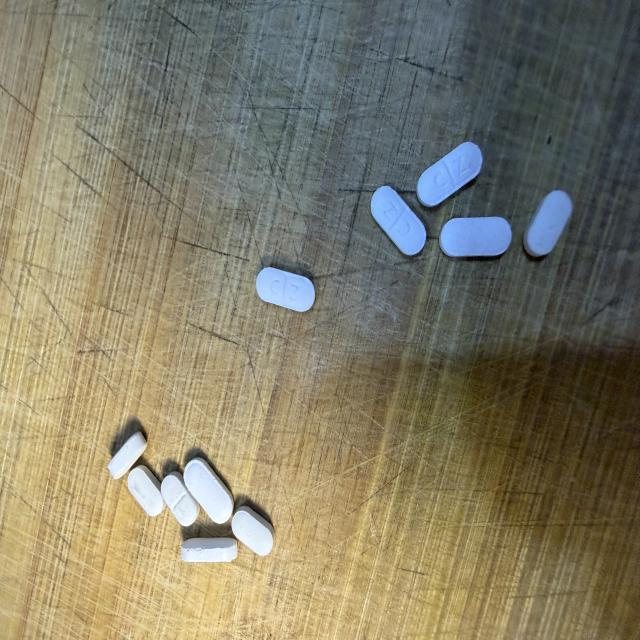pill: (417, 142, 482, 206), (371, 186, 426, 255), (184, 458, 233, 523), (524, 191, 572, 256), (440, 217, 511, 256), (257, 268, 315, 311), (161, 472, 199, 526), (232, 507, 274, 555), (128, 465, 164, 516), (108, 432, 147, 478), (181, 538, 237, 562)
